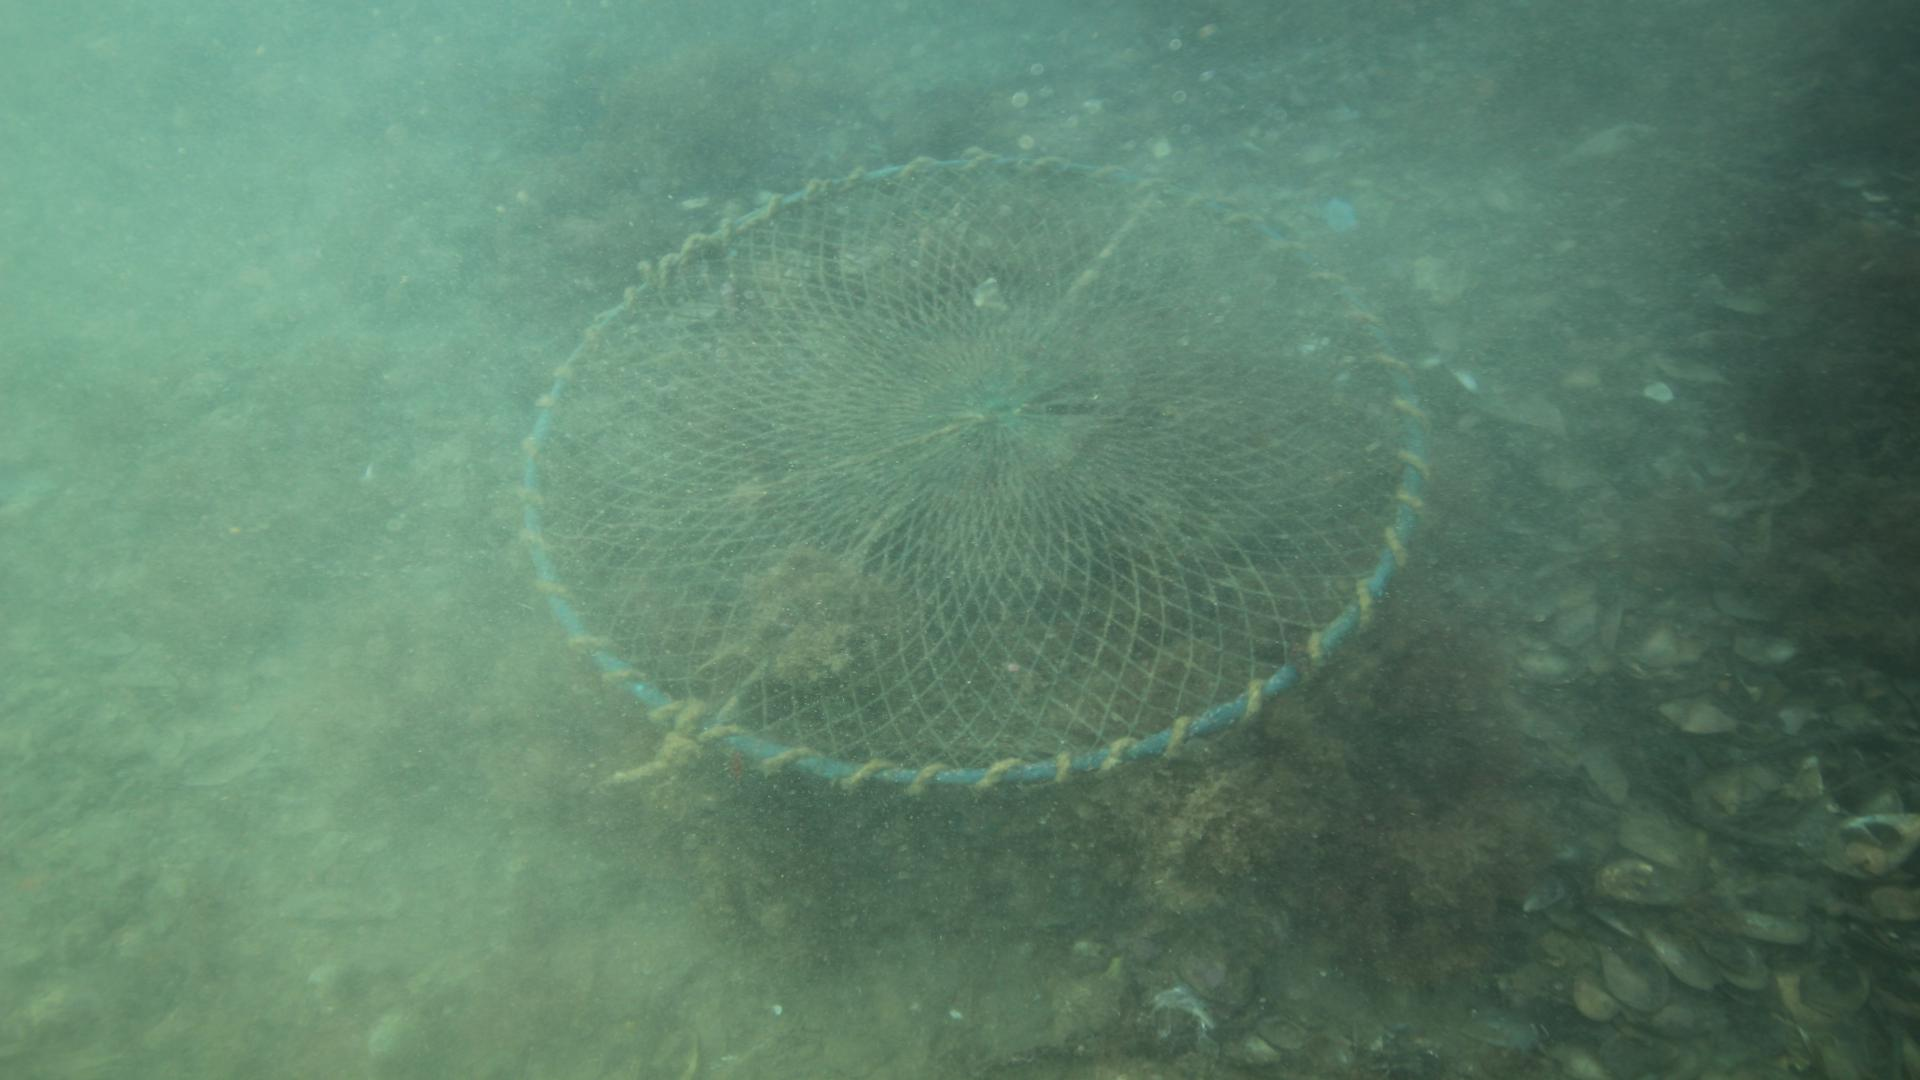circular fish trap: (514, 150, 1429, 796)
